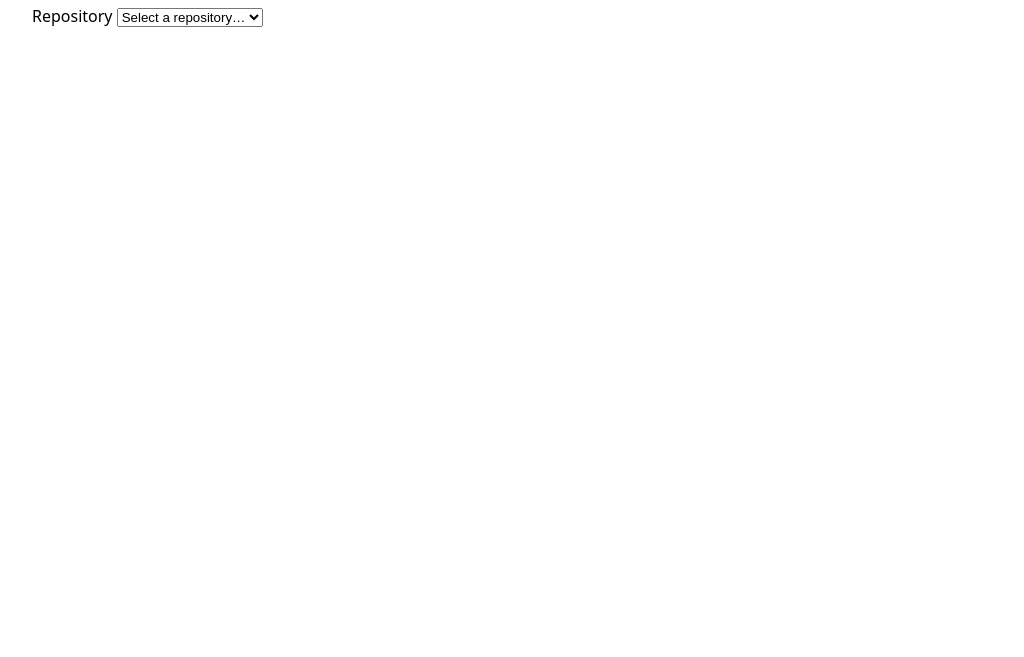
Test: Investigate run record › starts a generation-pinned run and polls until it finishes
Select "acme/demo (3 files)" in the dropdown labelled "Repository" at (190, 17), box [117,8,263,27]
(page scrolled)
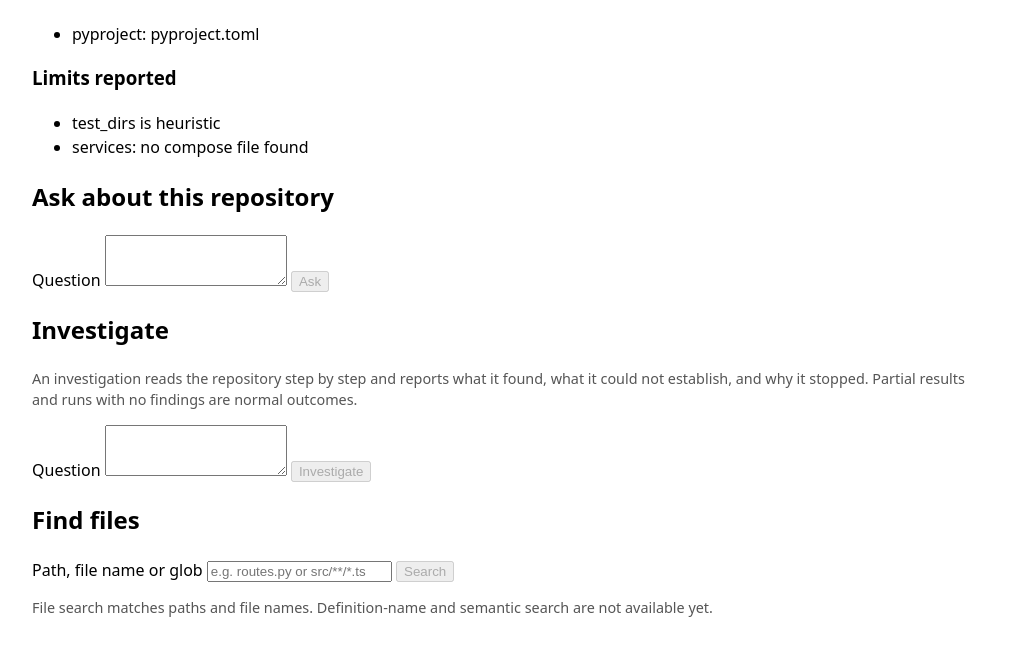
Type "Where is recovery?" into the 2nd text box labelled "Question" at (196, 451), box [105,426,287,476]
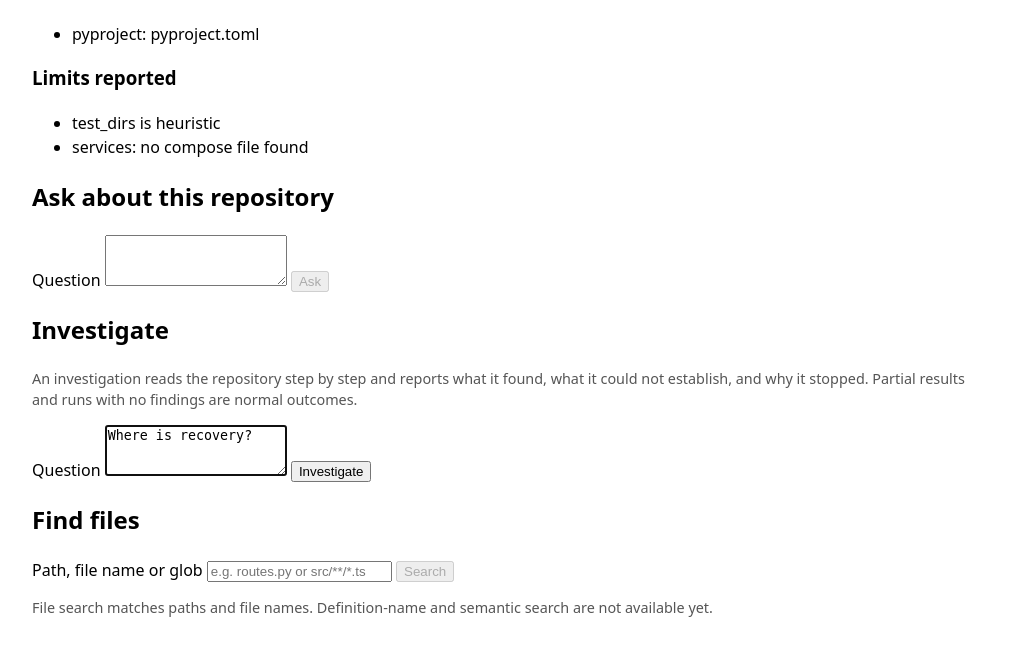
Click the submit button at (331, 472), box [291,462,371,482]
(page scrolled)
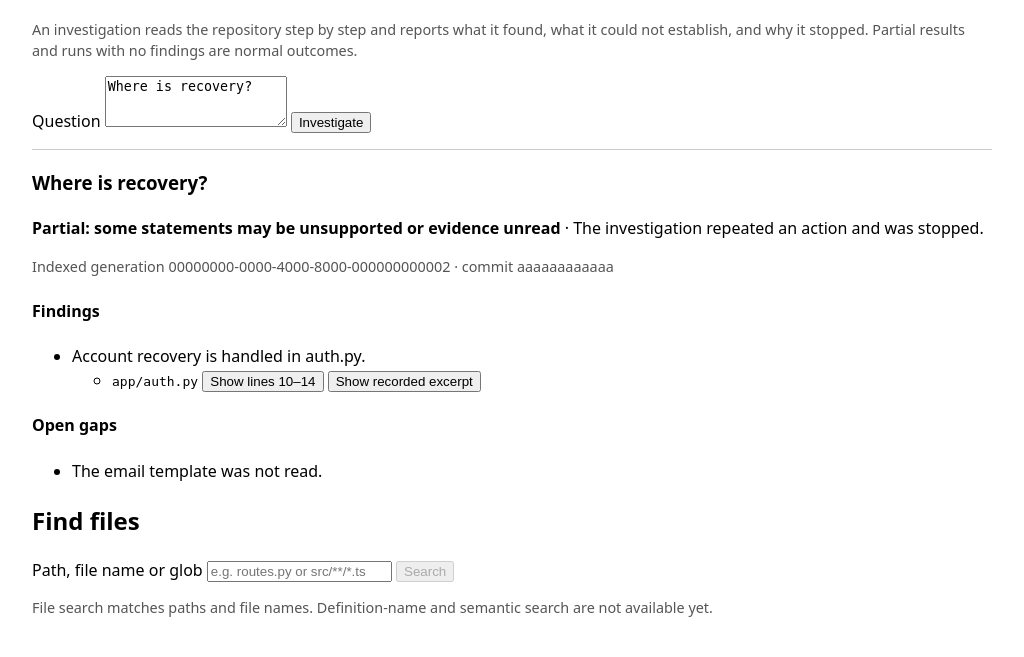
Check: the list item "Account recovery is handled in auth.py" is shown, box [72,345,365,367]
